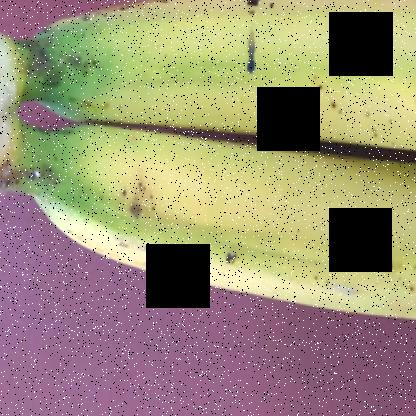freshripe: (26, 121, 415, 412), (19, 0, 415, 214)
